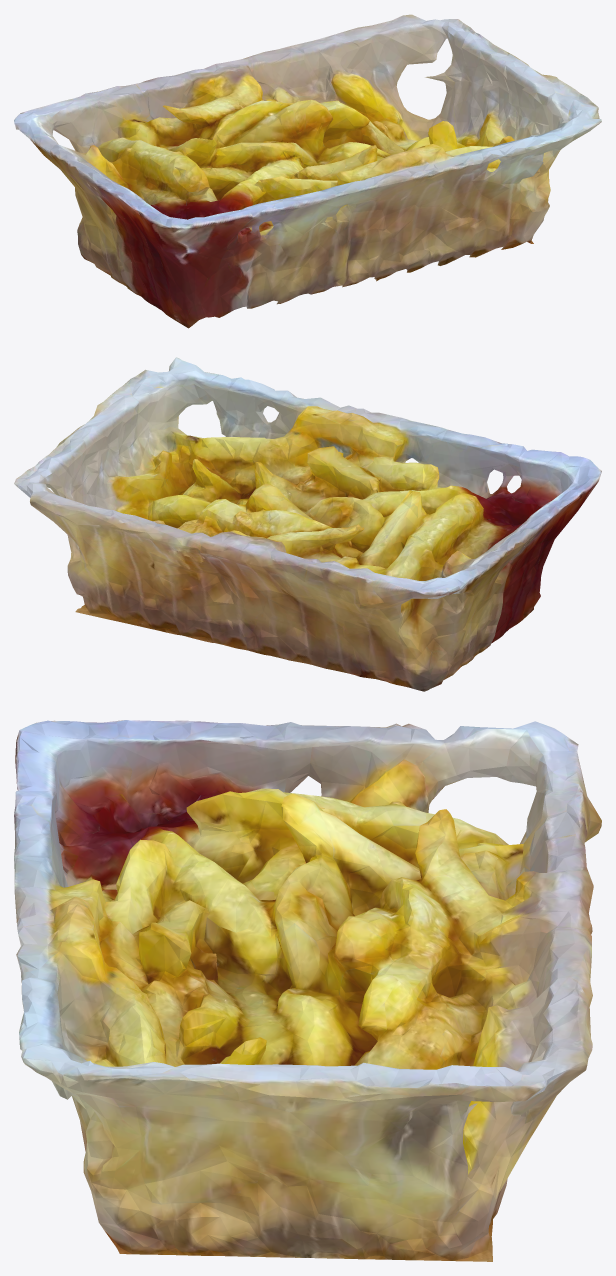
File: realfries.glb
The picture shows the model from 3 angles, top to bottom: view 1: azimuth 30°, elevation 25°; view 2: azimuth 150°, elevation 25°; view 3: azimuth 270°, elevation 25°; orthographic projection. The views are drawn at different scales.
Visible parts, largest first — view 1: Object_2; view 2: Object_2; view 3: Object_2.
Part boxes in pixels (x1=…): Object_2: x1=14, y1=14, x2=601, y2=328; Object_2: x1=14, y1=357, x2=601, y2=691; Object_2: x1=14, y1=720, x2=601, y2=1261.
Bounding box in the file's own units: 0.13 × 0.0394 × 0.0877.
Materials: 1 (1 with a texture image).
